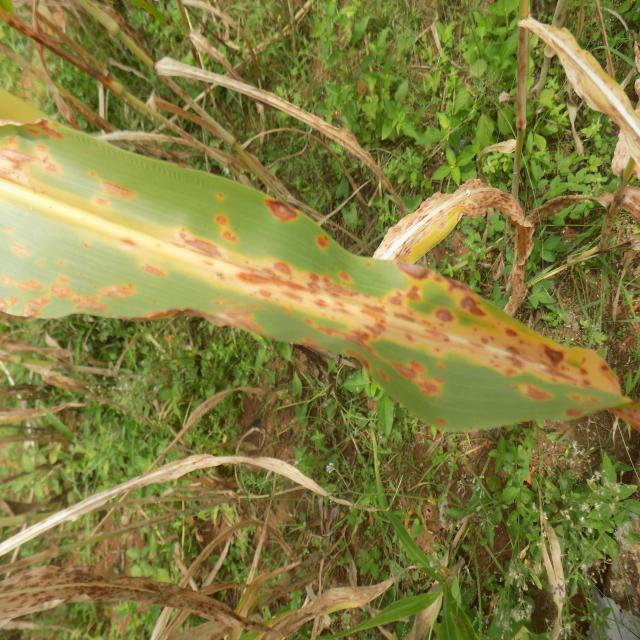millet_rust: (0, 115, 628, 434), (0, 542, 292, 640), (527, 17, 640, 184), (385, 174, 542, 294), (226, 563, 412, 640)
